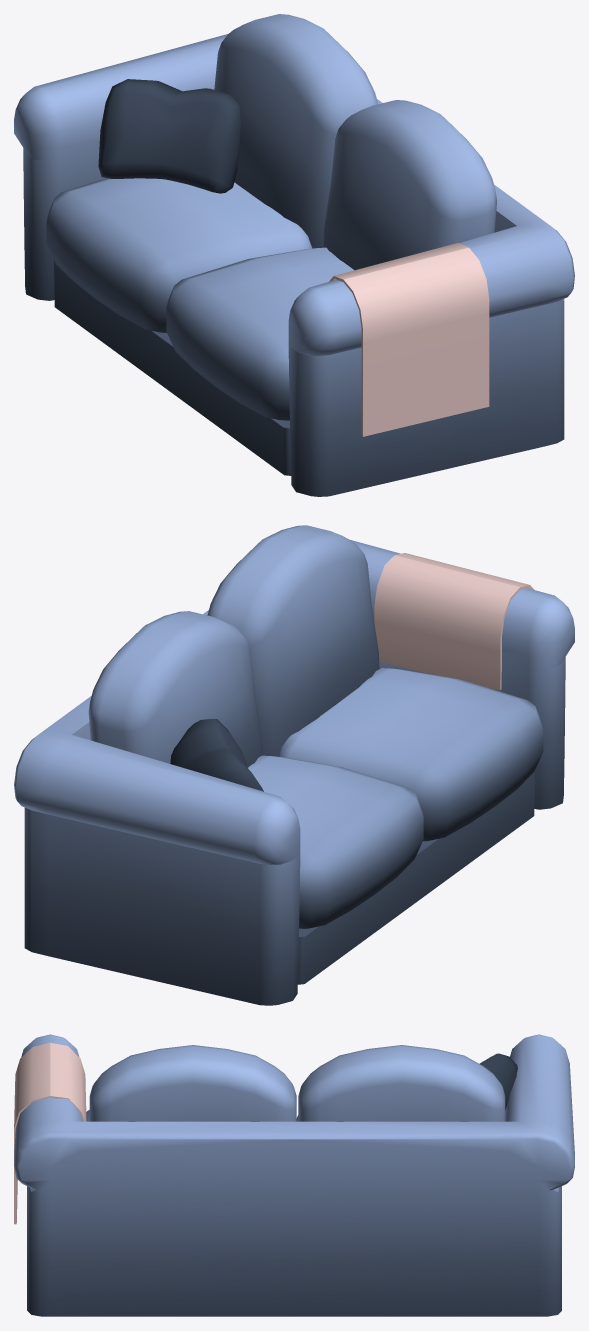
The model's file is sofa.fbx.
3 renders of one model, top to bottom at view 1: azimuth 30°, elevation 25°; view 2: azimuth 150°, elevation 25°; view 3: azimuth 270°, elevation 25°, orthographic. The views are drawn at different scales.
Parts seen in each view (by area): view 1: polySurface12123; view 2: polySurface12123; view 3: polySurface12123.
Part boxes in pixels (box(x1,y1,x2,y2)): polySurface12123: box(14, 14, 574, 496); polySurface12123: box(14, 525, 574, 1005); polySurface12123: box(14, 1034, 574, 1316).
Size of the model in its own units: 3.49 by 3.27 by 6.94.
